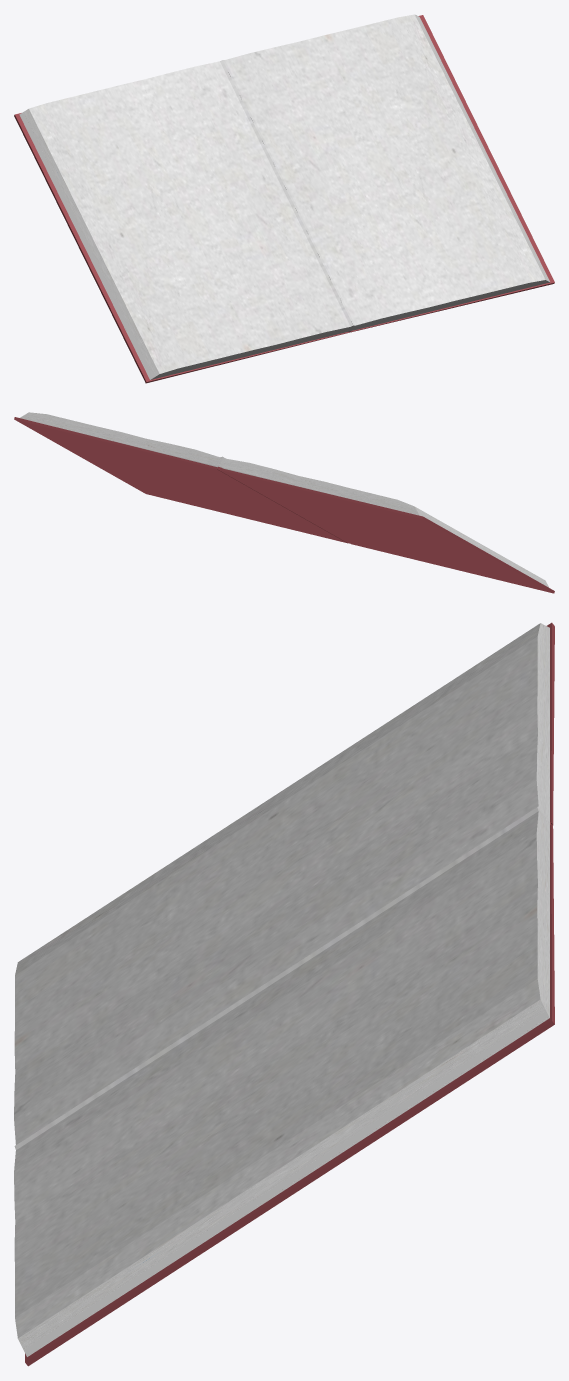
Rendered from OpenBook-DGvwbjhN.glb.
3 renders of one model, top to bottom at view 1: azimuth 30°, elevation 25°; view 2: azimuth 150°, elevation 25°; view 3: azimuth 270°, elevation 25°, orthographic. The views are drawn at different scales.
Visible parts, largest first — view 1: Paper, Paper.001, BookHalf, Book; view 2: BookHalf, Book, Paper, Paper.001; view 3: Paper.001, Paper, Book, BookHalf.
Boxes of the visible parts, box(x1,y1,x2,y2) form: Paper: box(19, 60, 353, 379); Paper.001: box(222, 14, 550, 330); BookHalf: box(14, 113, 349, 383); Book: box(349, 15, 554, 332); BookHalf: box(218, 467, 554, 593); Book: box(14, 417, 349, 543); Paper: box(219, 457, 549, 587); Paper.001: box(20, 412, 225, 467); Paper.001: box(14, 807, 549, 1356); Paper: box(14, 623, 549, 1145); Book: box(25, 823, 554, 1366); BookHalf: box(547, 622, 554, 825).
Bounding box in the file's own units: 0.5152 × 0.2179 × 0.2958.
Materials: 2 (1 with a texture image).
